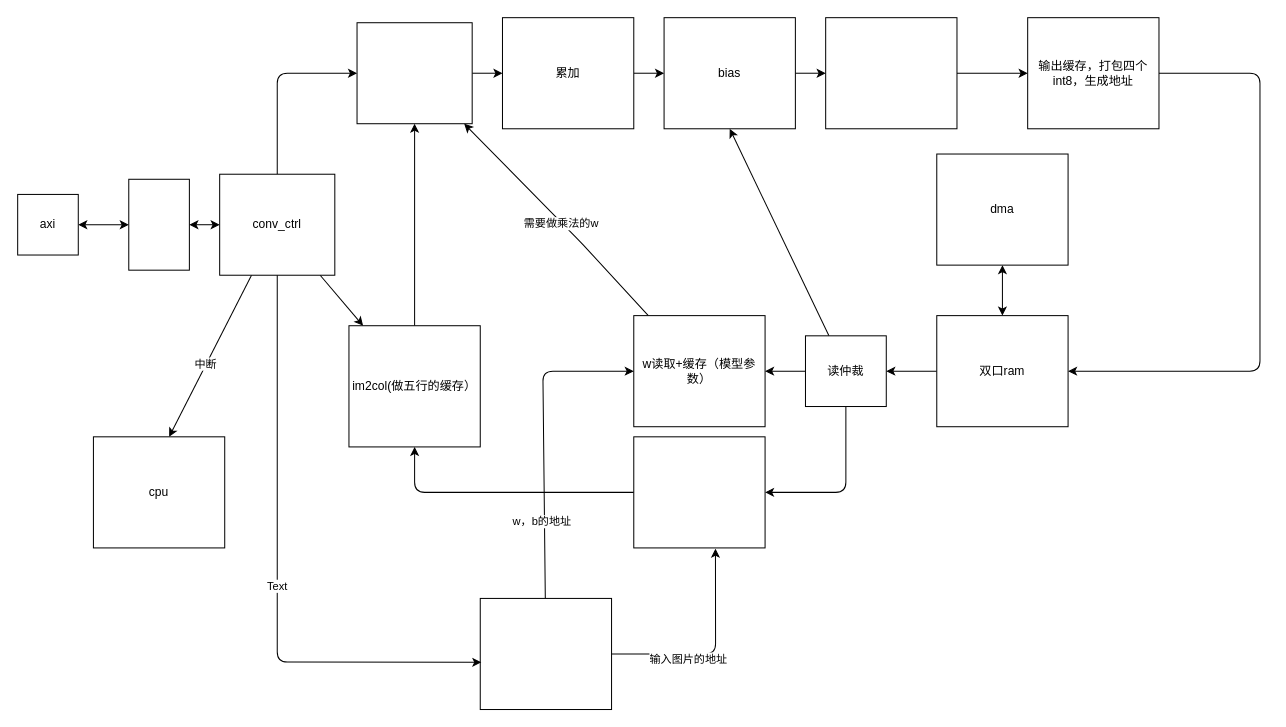
Image size: 1286x727. Some labels were removed from this diagram. Each missing label, with the centre of its shape:
"conv_reg" belongs at pixel 158 224.
"int32relu，完成后量化为int8" belongs at pixel 891 73.
"mac(16*25pe）" belongs at pixel 414 73.
"地址生成（w，b，处理数据）" belongs at pixel 545 653.
"输入读取+缓存" belongs at pixel 699 492.
